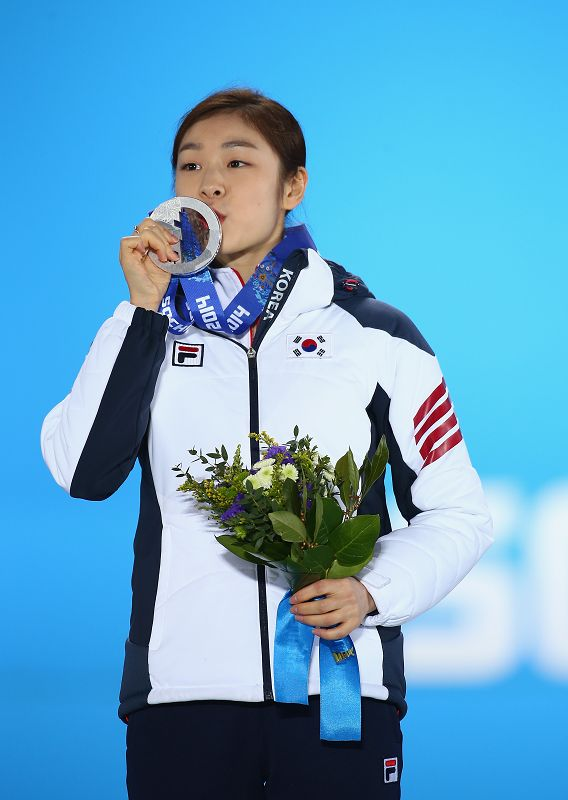face: (175, 106, 276, 253)
